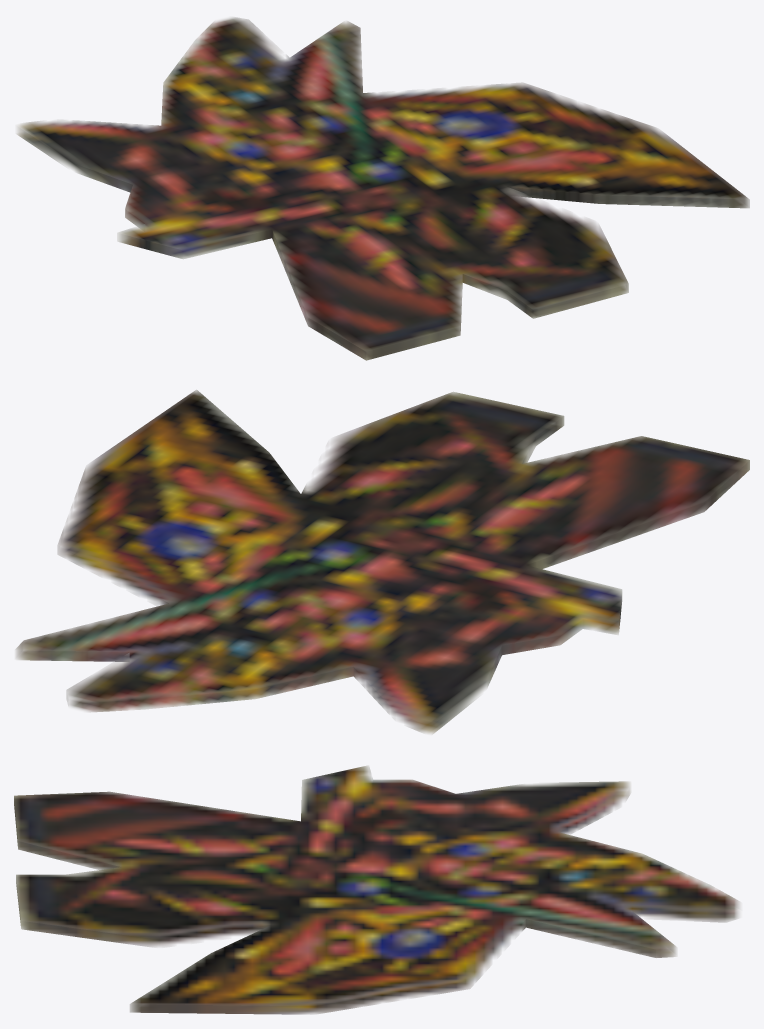
The model's file is ThanPhuThuy.glb.
3 renders of one model, top to bottom at view 1: azimuth 30°, elevation 25°; view 2: azimuth 150°, elevation 25°; view 3: azimuth 270°, elevation 25°, orthographic. The views are drawn at different scales.
Visible parts, largest first — view 1: ThanPhuThuy; view 2: ThanPhuThuy; view 3: ThanPhuThuy.
Part boxes in pixels (bbox=[...]): ThanPhuThuy: bbox=[16, 16, 749, 360]; ThanPhuThuy: bbox=[15, 390, 749, 734]; ThanPhuThuy: bbox=[14, 765, 741, 1014].
Size of the model in its own units: 0.3035 by 0.005 by 0.3913.
Materials: 1 (1 with a texture image).
